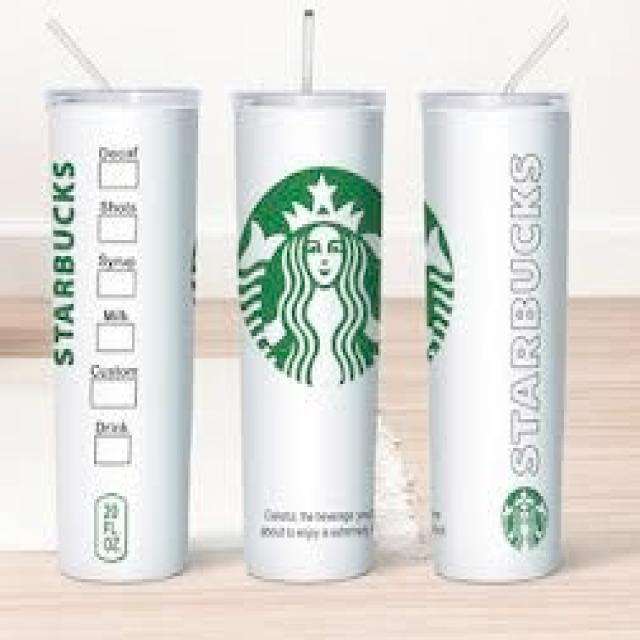bottle: (37, 14, 207, 597), (415, 8, 583, 590), (226, 8, 394, 587)
